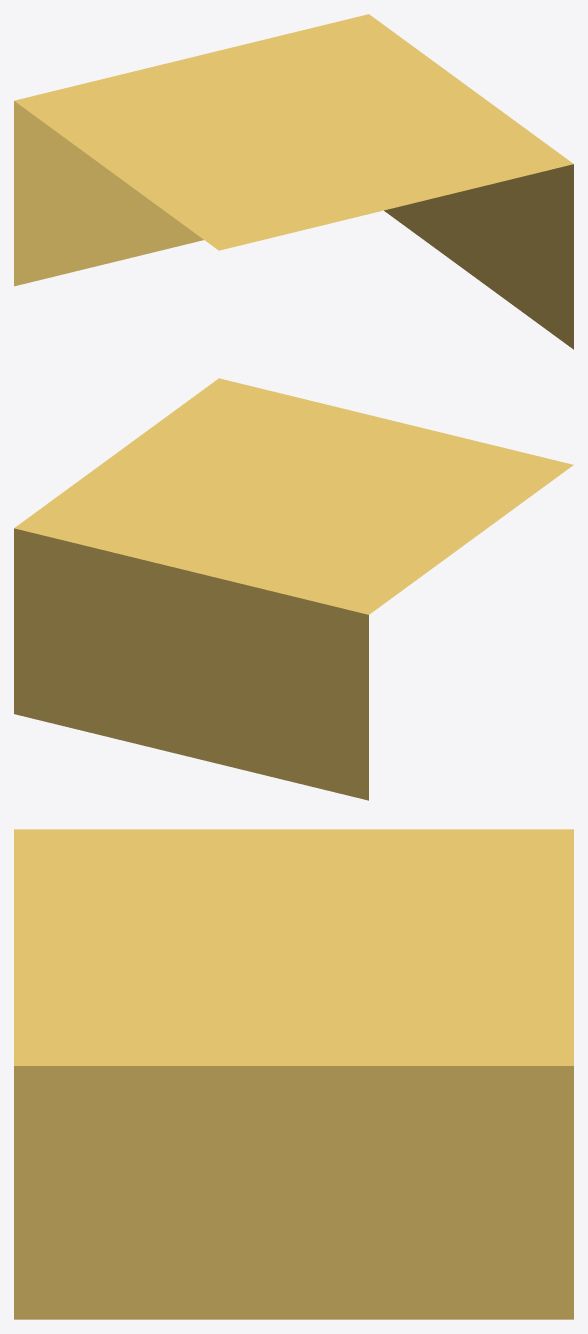
Rendered from desert19.glb.
3 views of the same model, one above another, from view 1: azimuth 30°, elevation 25°; view 2: azimuth 150°, elevation 25°; view 3: azimuth 270°, elevation 25° (orthographic). The views are drawn at different scales.
Visible parts, largest first — view 1: Cube.034; view 2: Cube.034; view 3: Cube.034.
Part boxes in pixels (x1,y1,x2,y2): Cube.034: (14,14,573,349); Cube.034: (14,378,573,800); Cube.034: (14,829,573,1319).
Bounding box in the file's own units: 4 × 2 × 4.
